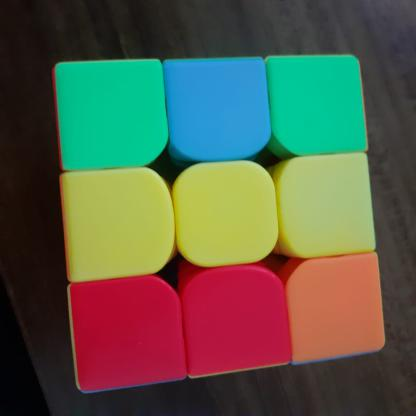cube: (45, 53, 388, 394)
